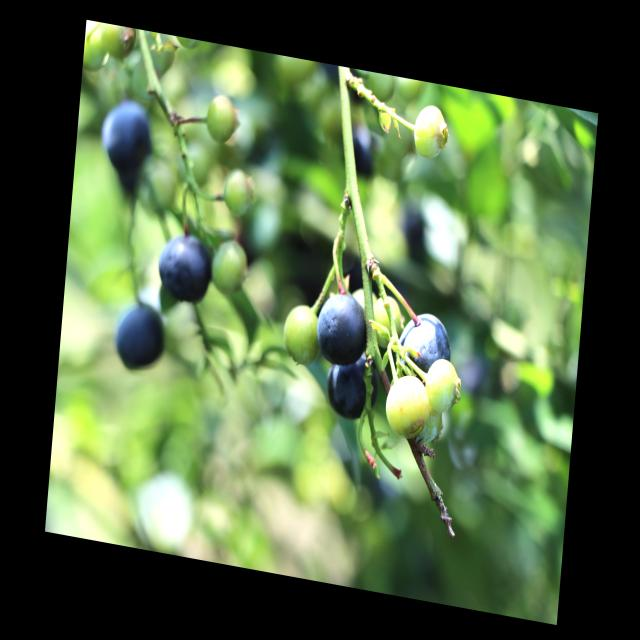blueberry: (97, 94, 157, 178), (155, 226, 216, 306), (112, 293, 170, 377), (314, 289, 373, 371), (395, 307, 456, 385), (323, 349, 382, 425)
blueberry-unripe: (384, 366, 431, 442), (207, 234, 250, 298), (281, 302, 324, 366), (412, 103, 453, 164), (368, 287, 404, 355), (203, 90, 240, 150), (221, 163, 259, 219), (424, 357, 461, 413)
